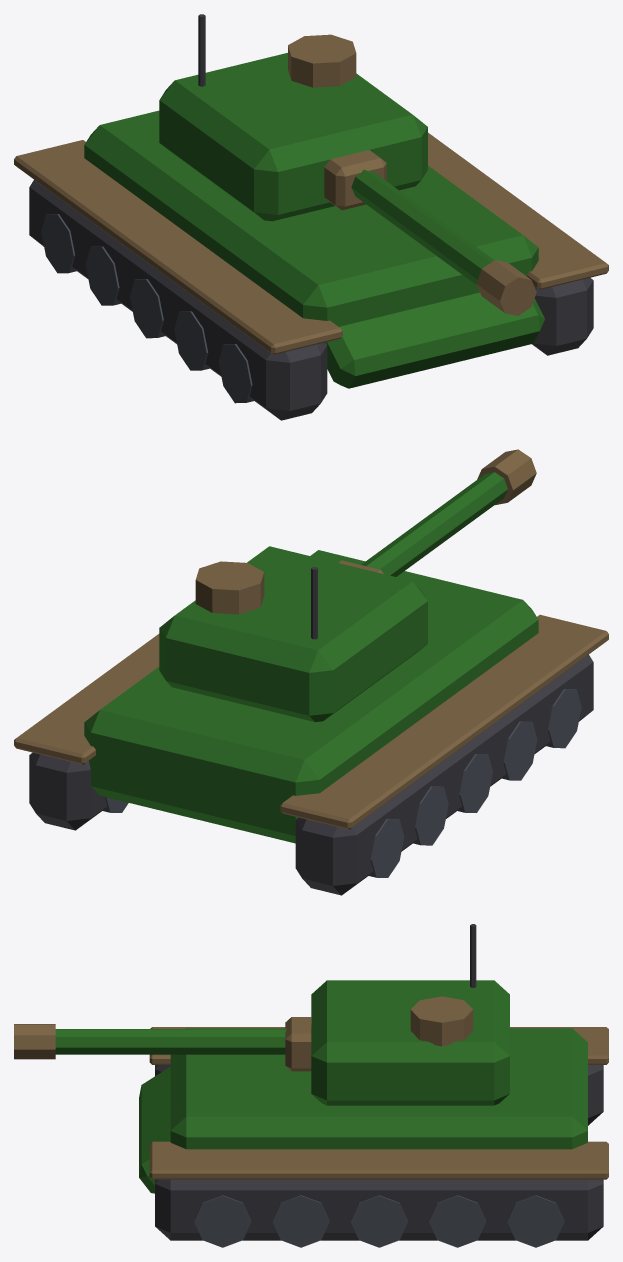
Rendered from JungleTank.fbx.
3 renders of one model, top to bottom at view 1: azimuth 30°, elevation 25°; view 2: azimuth 150°, elevation 25°; view 3: azimuth 270°, elevation 25°, orthographic. The views are drawn at different scales.
Parts seen in each view (by area): view 1: JungleTank, JungleTank_Turret; view 2: JungleTank, JungleTank_Turret; view 3: JungleTank, JungleTank_Turret.
Part boxes in pixels (bbox=[...]): JungleTank: bbox=[14, 110, 608, 420]; JungleTank_Turret: bbox=[159, 14, 536, 315]; JungleTank: bbox=[14, 550, 608, 895]; JungleTank_Turret: bbox=[159, 449, 536, 722]; JungleTank: bbox=[139, 1027, 608, 1247]; JungleTank_Turret: bbox=[14, 924, 509, 1105].
Size of the model in its own units: 6.6 by 4.8 by 11.4.
Materials: 1 (1 with a texture image).
